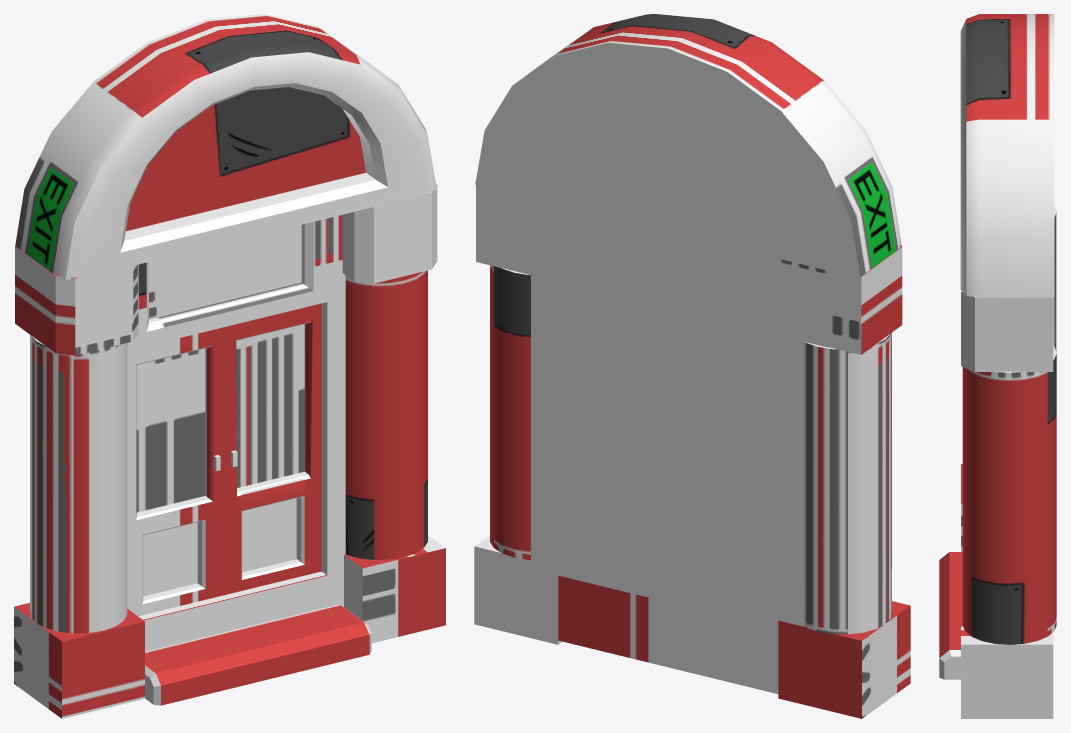
File: door.obj
The picture shows the model from 3 angles, left to right: view 1: azimuth 30°, elevation 25°; view 2: azimuth 150°, elevation 25°; view 3: azimuth 270°, elevation 25°; orthographic projection. The views are drawn at different scales.
Visible parts, largest first — view 1: pCylinder4_initialShadingGroup; view 2: pCylinder4_initialShadingGroup; view 3: pCylinder4_initialShadingGroup.
Part boxes in pixels (bbox=[...]): pCylinder4_initialShadingGroup: bbox=[14, 14, 445, 718]; pCylinder4_initialShadingGroup: bbox=[474, 14, 910, 718]; pCylinder4_initialShadingGroup: bbox=[939, 14, 1056, 718].
Size of the model in its own units: 1.59 by 2.43 by 0.4354.
